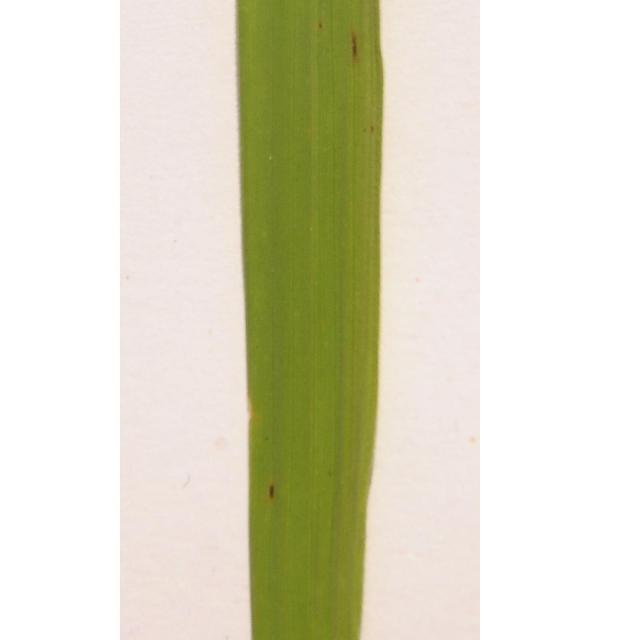Brown spot: (338, 23, 366, 70), (262, 474, 281, 511), (311, 20, 334, 40)
